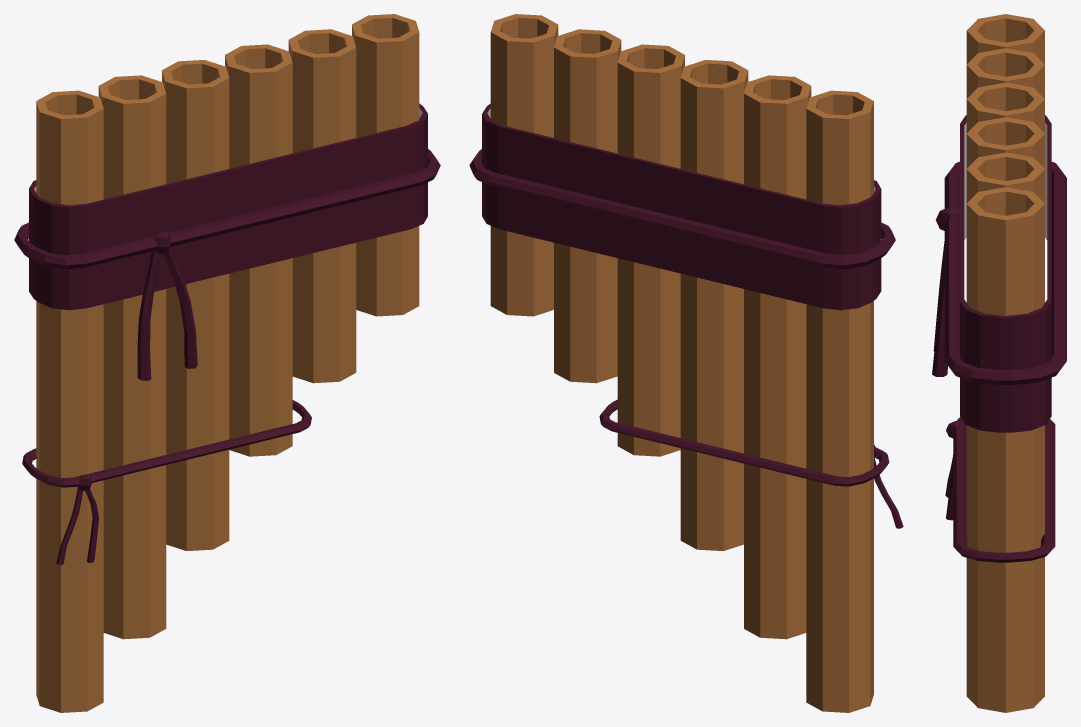
Rendered from Flauta.fbx.
The picture shows the model from 3 angles, left to right: view 1: azimuth 30°, elevation 25°; view 2: azimuth 150°, elevation 25°; view 3: azimuth 270°, elevation 25°; orthographic projection. The views are drawn at different scales.
Visible parts, largest first — view 1: Flauta; view 2: Flauta; view 3: Flauta.
Part boxes in pixels (<box>): Flauta: <box>14,14,440,712</box>; Flauta: <box>469,14,903,712</box>; Flauta: <box>932,14,1066,712</box>.
Bounding box in the file's own units: 32.91 × 46 × 8.45.
